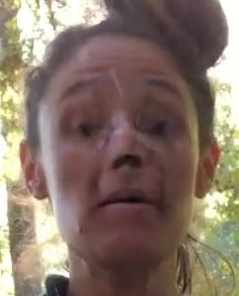n_f: (103, 109, 147, 173)
